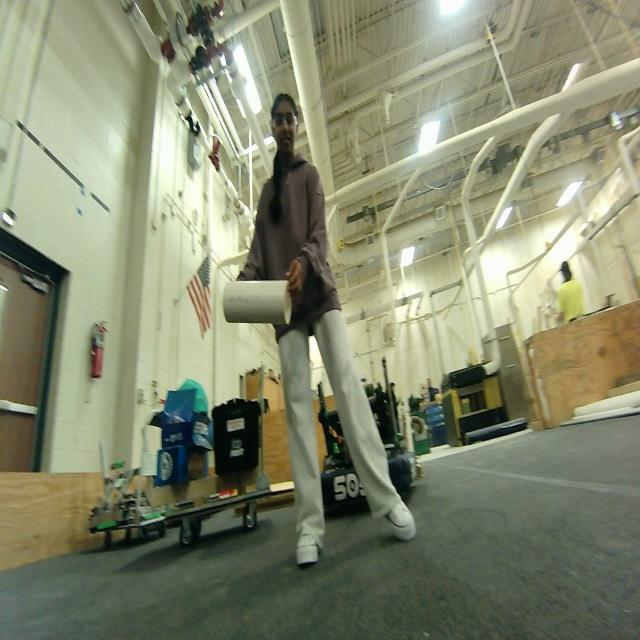coral: (223, 278, 294, 328)
